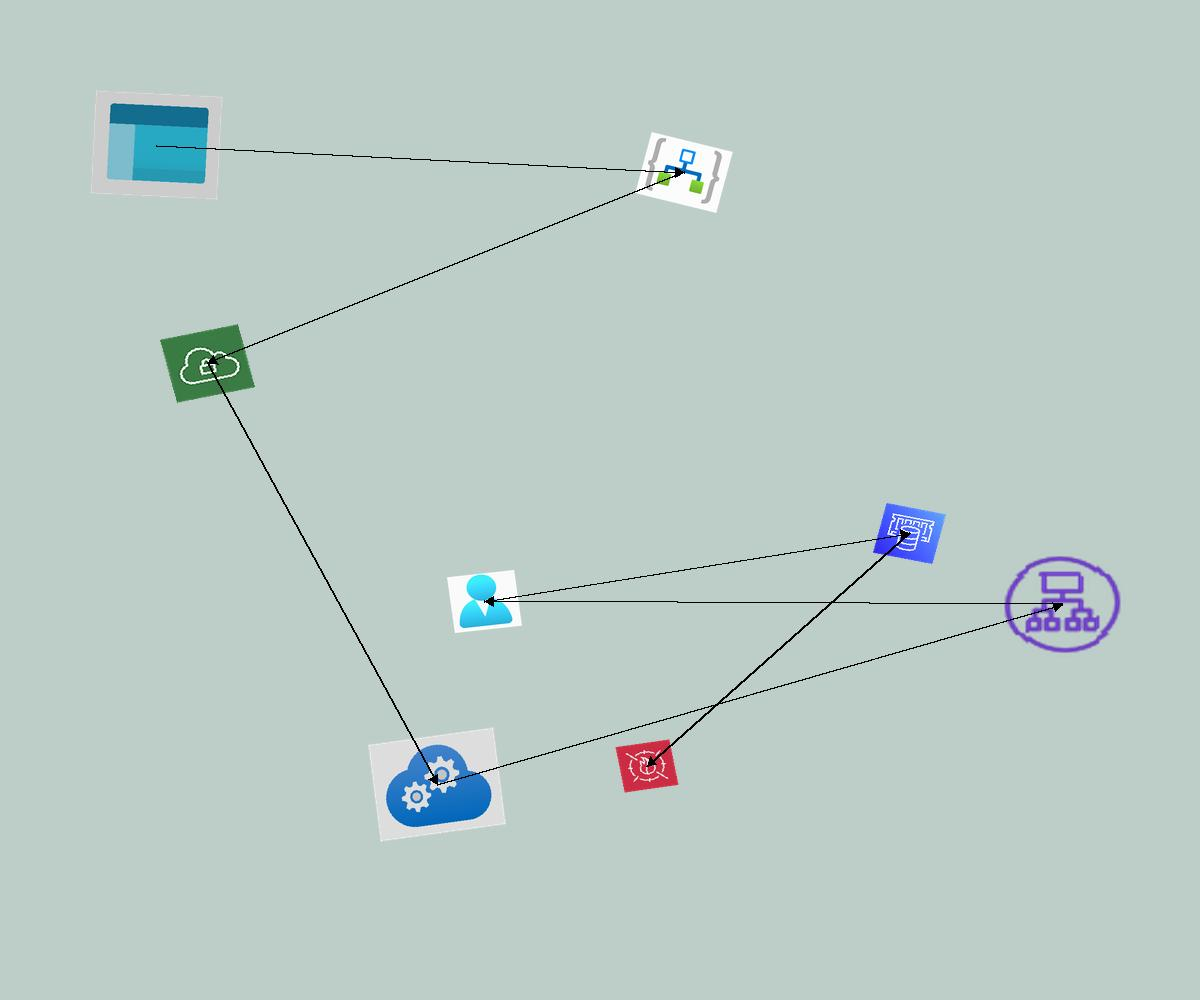AWS-ElastiCache: (873, 503, 946, 564)
AWS-Private_vpc: (160, 324, 255, 403)
AWS-Res_Elastic-Load-Balancing_Application-Load-Balancer: (997, 550, 1128, 659)
AWS-WAF: (615, 739, 679, 793)
Azure_cloud_services: (368, 727, 506, 842)
Azure_integration-204-Logic-Apps: (635, 132, 733, 213)
Azure_management-portal: (90, 90, 223, 200)
Azure_users: (447, 570, 522, 633)
